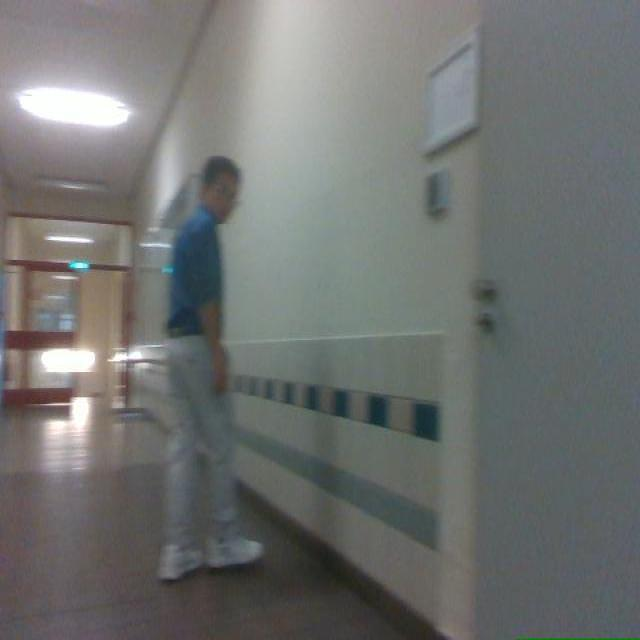humans: (159, 156, 262, 580)
